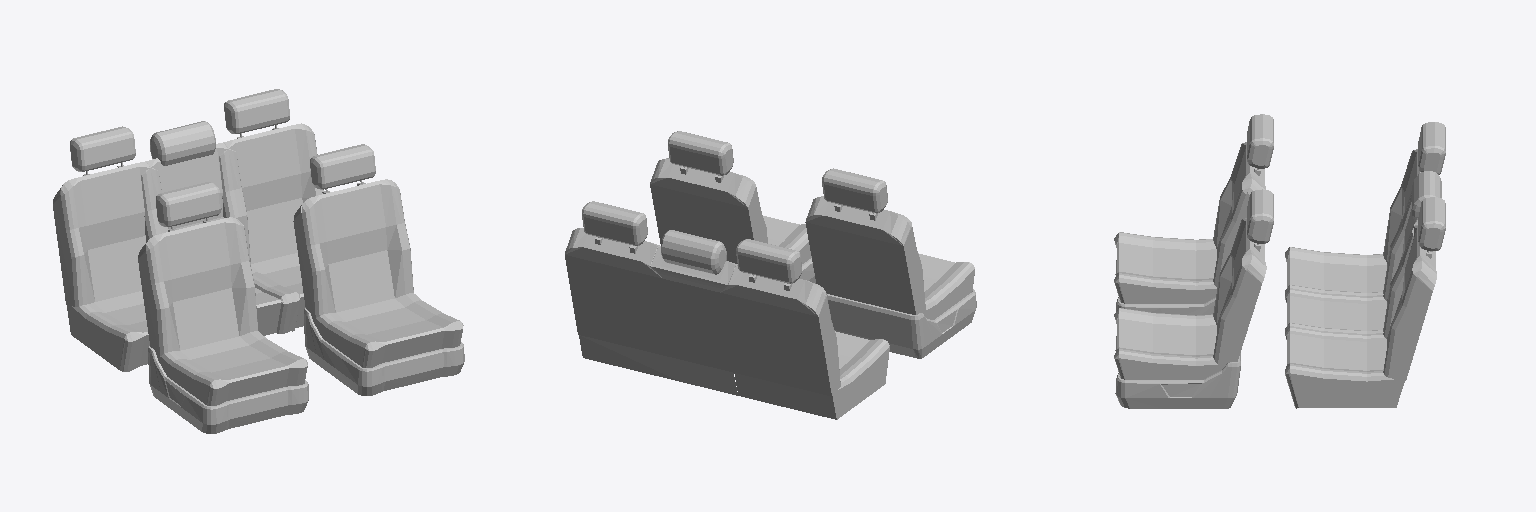
File: seats.obj
3 renders of one model, left to right at view 1: azimuth 30°, elevation 25°; view 2: azimuth 150°, elevation 25°; view 3: azimuth 270°, elevation 25°, orthographic.
Visible parts, largest first — view 1: lincoln_navigator; view 2: lincoln_navigator; view 3: lincoln_navigator.
Boxes of the visible parts, box(x1,y1,x2,y2) form: lincoln_navigator: box(53, 89, 464, 433); lincoln_navigator: box(565, 131, 976, 419); lincoln_navigator: box(1114, 114, 1445, 408).
Bounding box in the file's own units: 4.46 × 3.01 × 4.9.